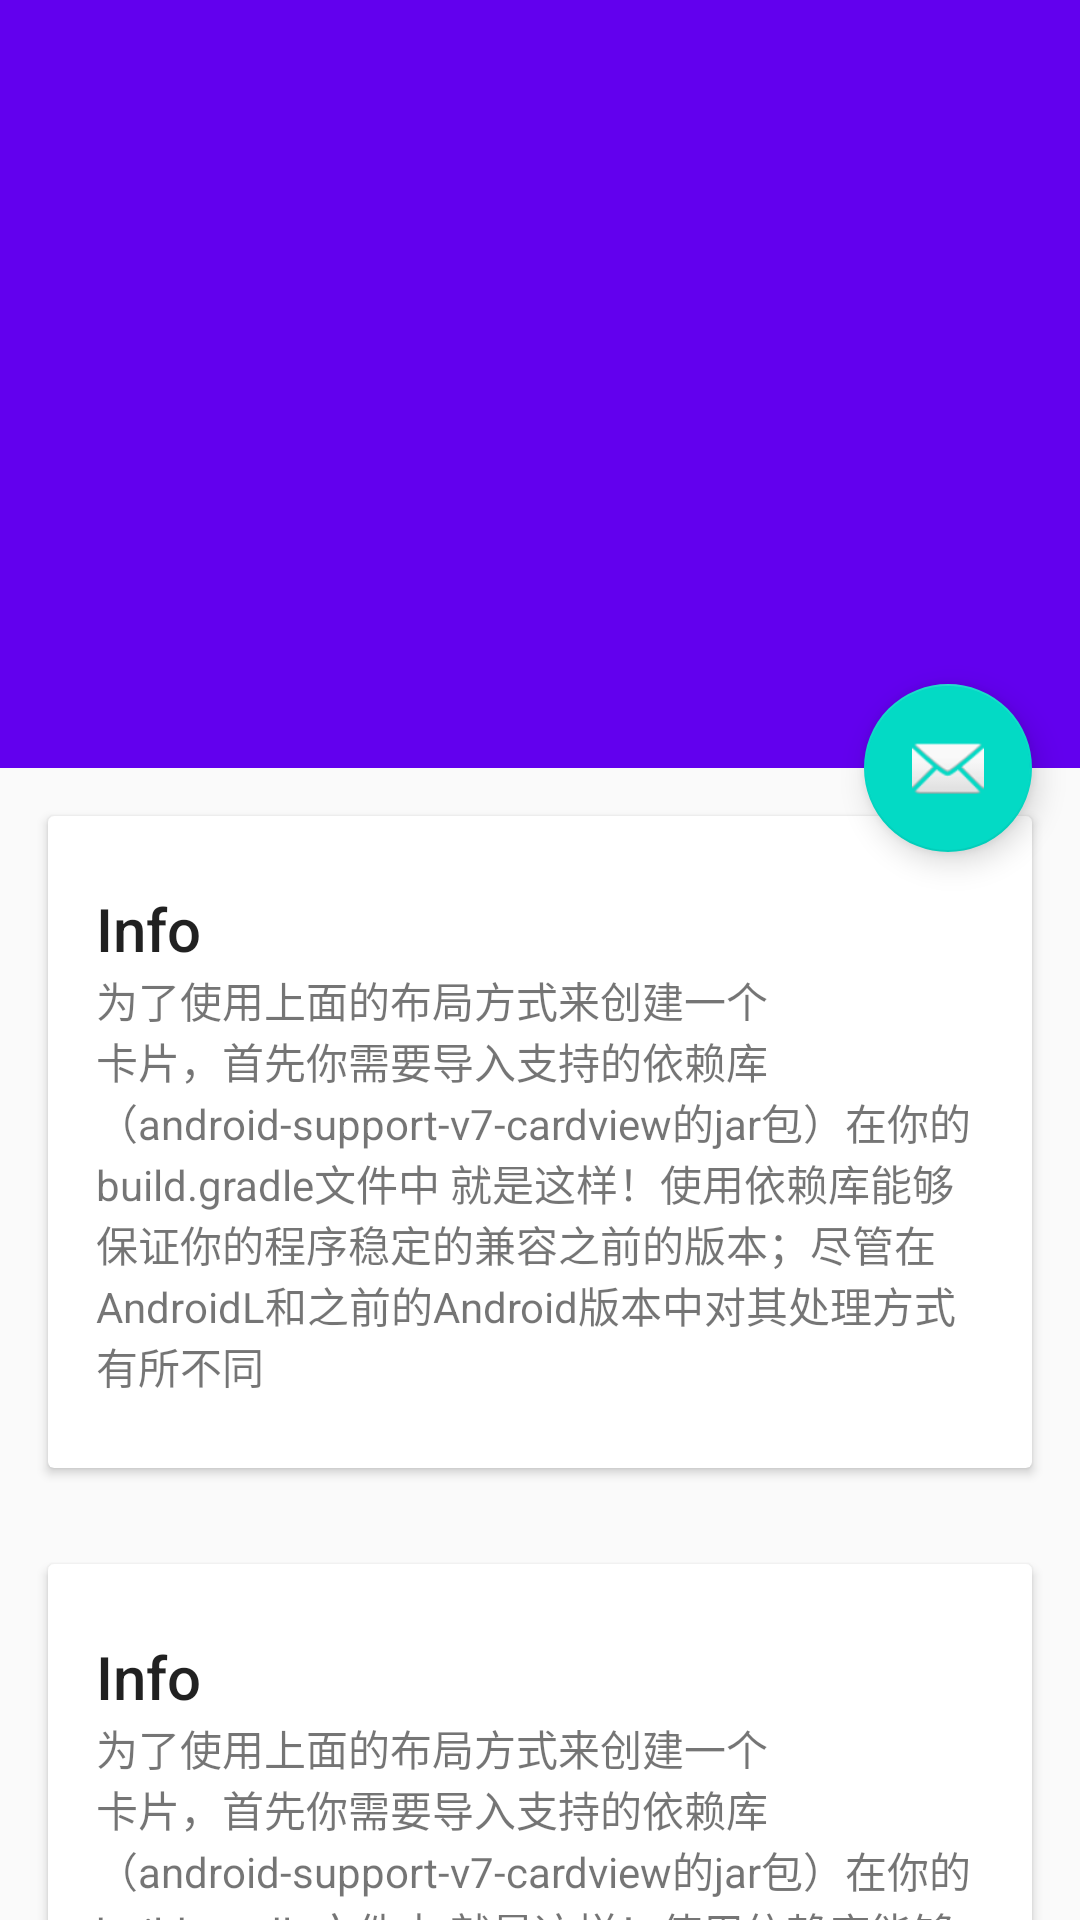

Named icons in this screenshot (1080px×1920px) and their centers, point (x, y):
email: point (948, 768)
